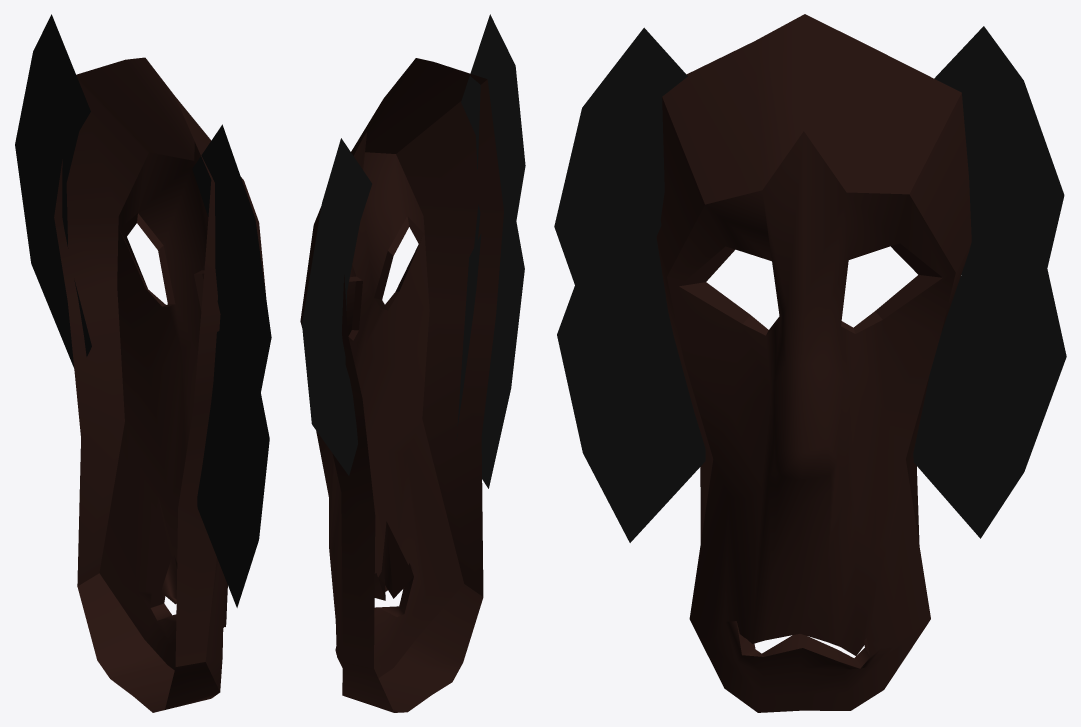
Rendered from mask3.fbx.
3 renders of one model, left to right at view 1: azimuth 30°, elevation 25°; view 2: azimuth 150°, elevation 25°; view 3: azimuth 270°, elevation 25°, orthographic. The views are drawn at different scales.
Parts seen in each view (by area): view 1: pCube4, pCylinder3; view 2: pCube4, pCylinder3; view 3: pCube4, pCylinder3.
Boxes of the visible parts, x1=… form: pCube4: x1=54, y1=57, x2=266, y2=712; pCylinder3: x1=15, y1=14, x2=271, y2=607; pCube4: x1=300, y1=58, x2=503, y2=712; pCylinder3: x1=302, y1=14, x2=525, y2=488; pCube4: x1=656, y1=14, x2=971, y2=712; pCylinder3: x1=554, y1=26, x2=1066, y2=542.
Bounding box in the file's own units: 1.05 × 5.11 × 3.51.
